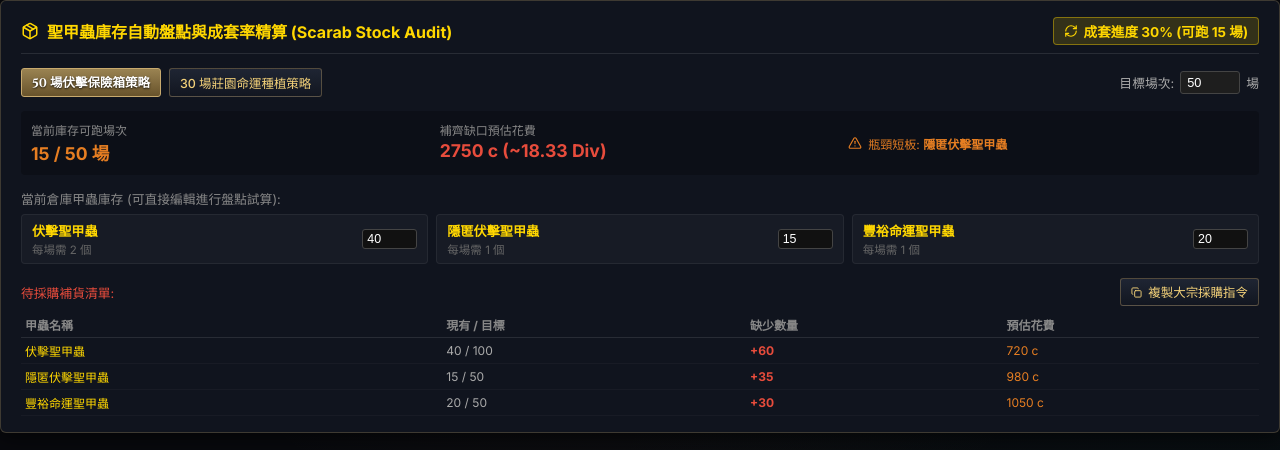
ScarabStockAuditCard › switches strategy when another strategy button is clicked
Click the button "30 場莊園命運種植策略".
click(246, 82)  # box [169, 68, 322, 97]
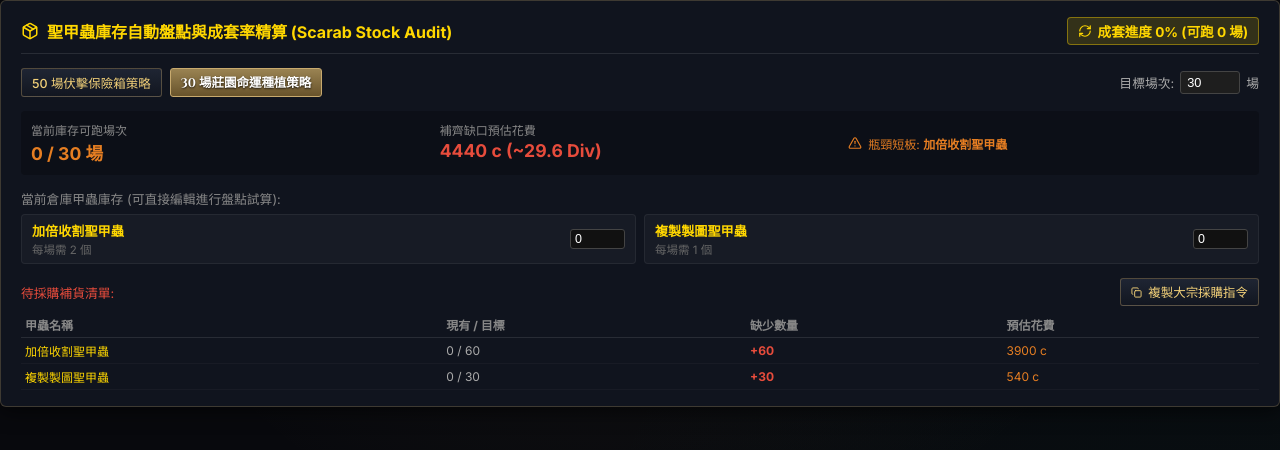
Check: the text "加倍收割聖甲蟲" next to "瓶頸短板:" is shown, box [923, 136, 1007, 152]
